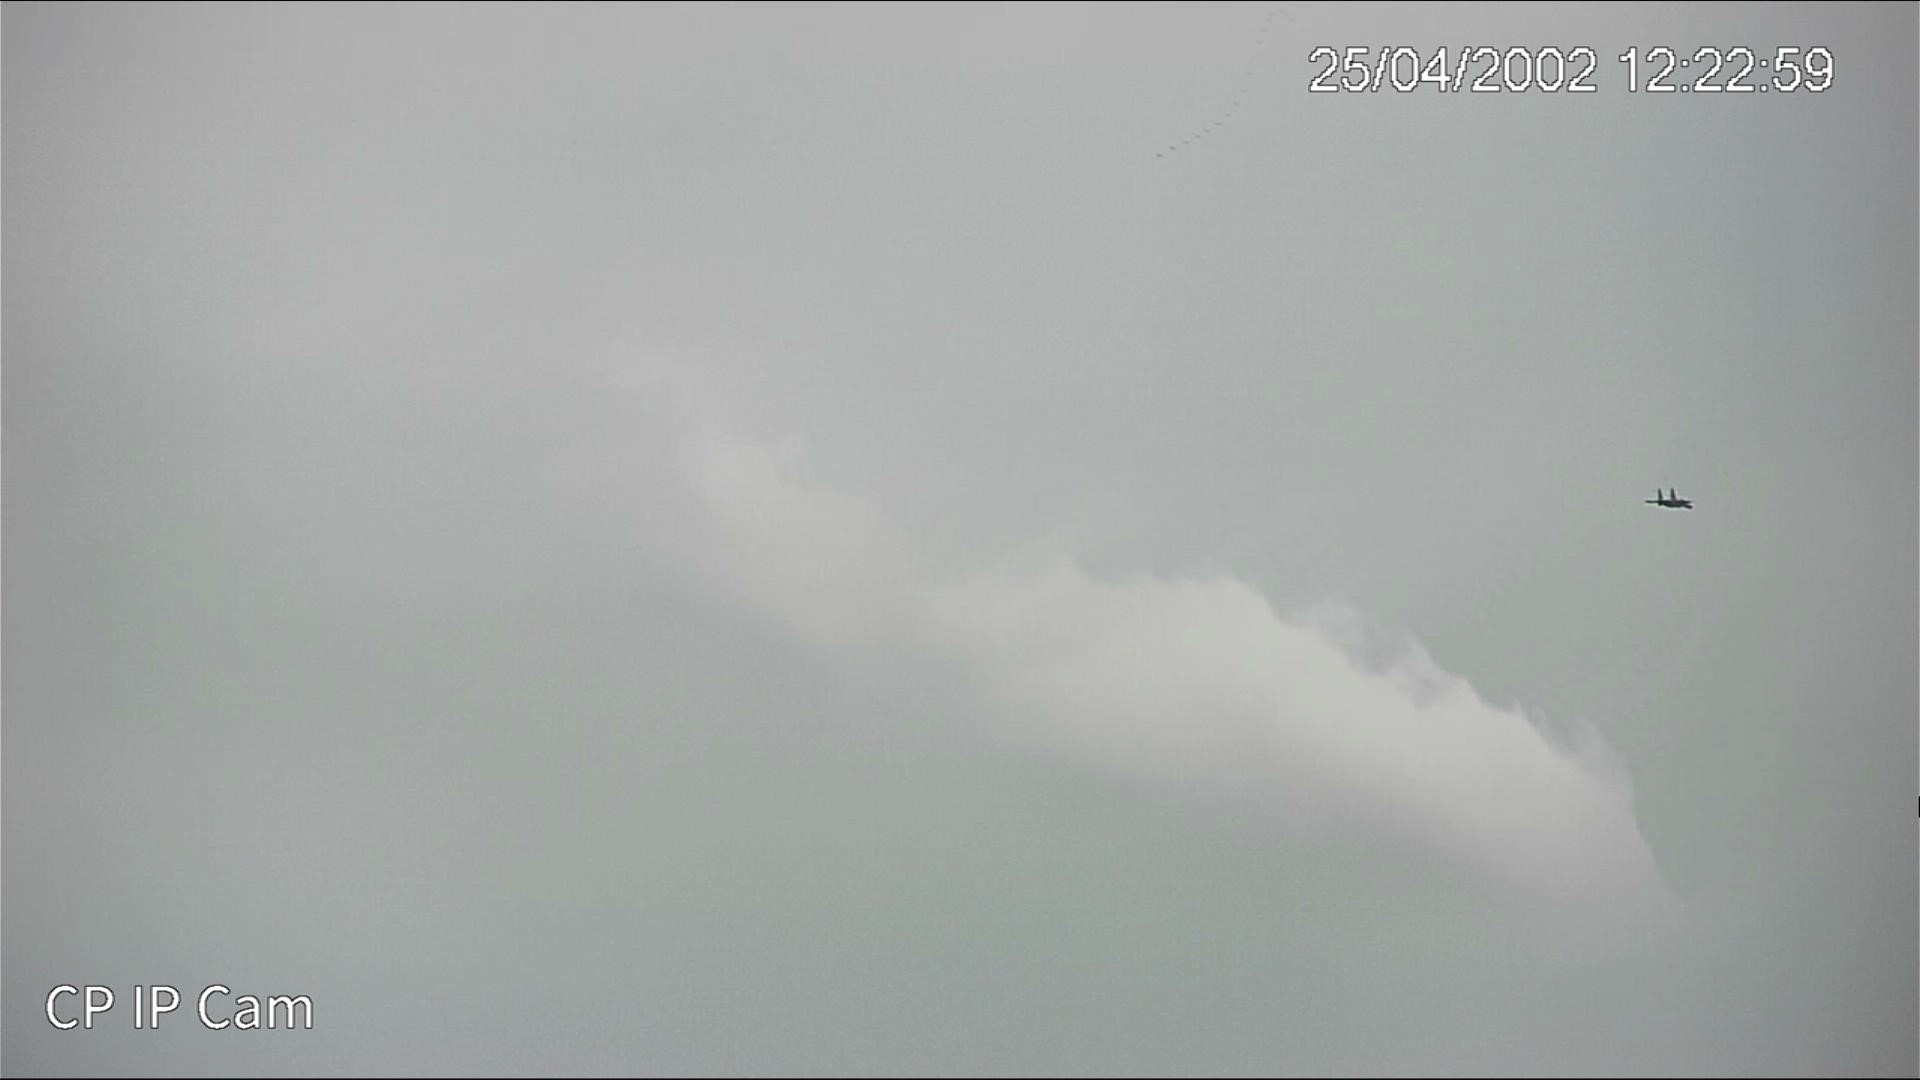SU_30: (1643, 491, 1693, 513)
